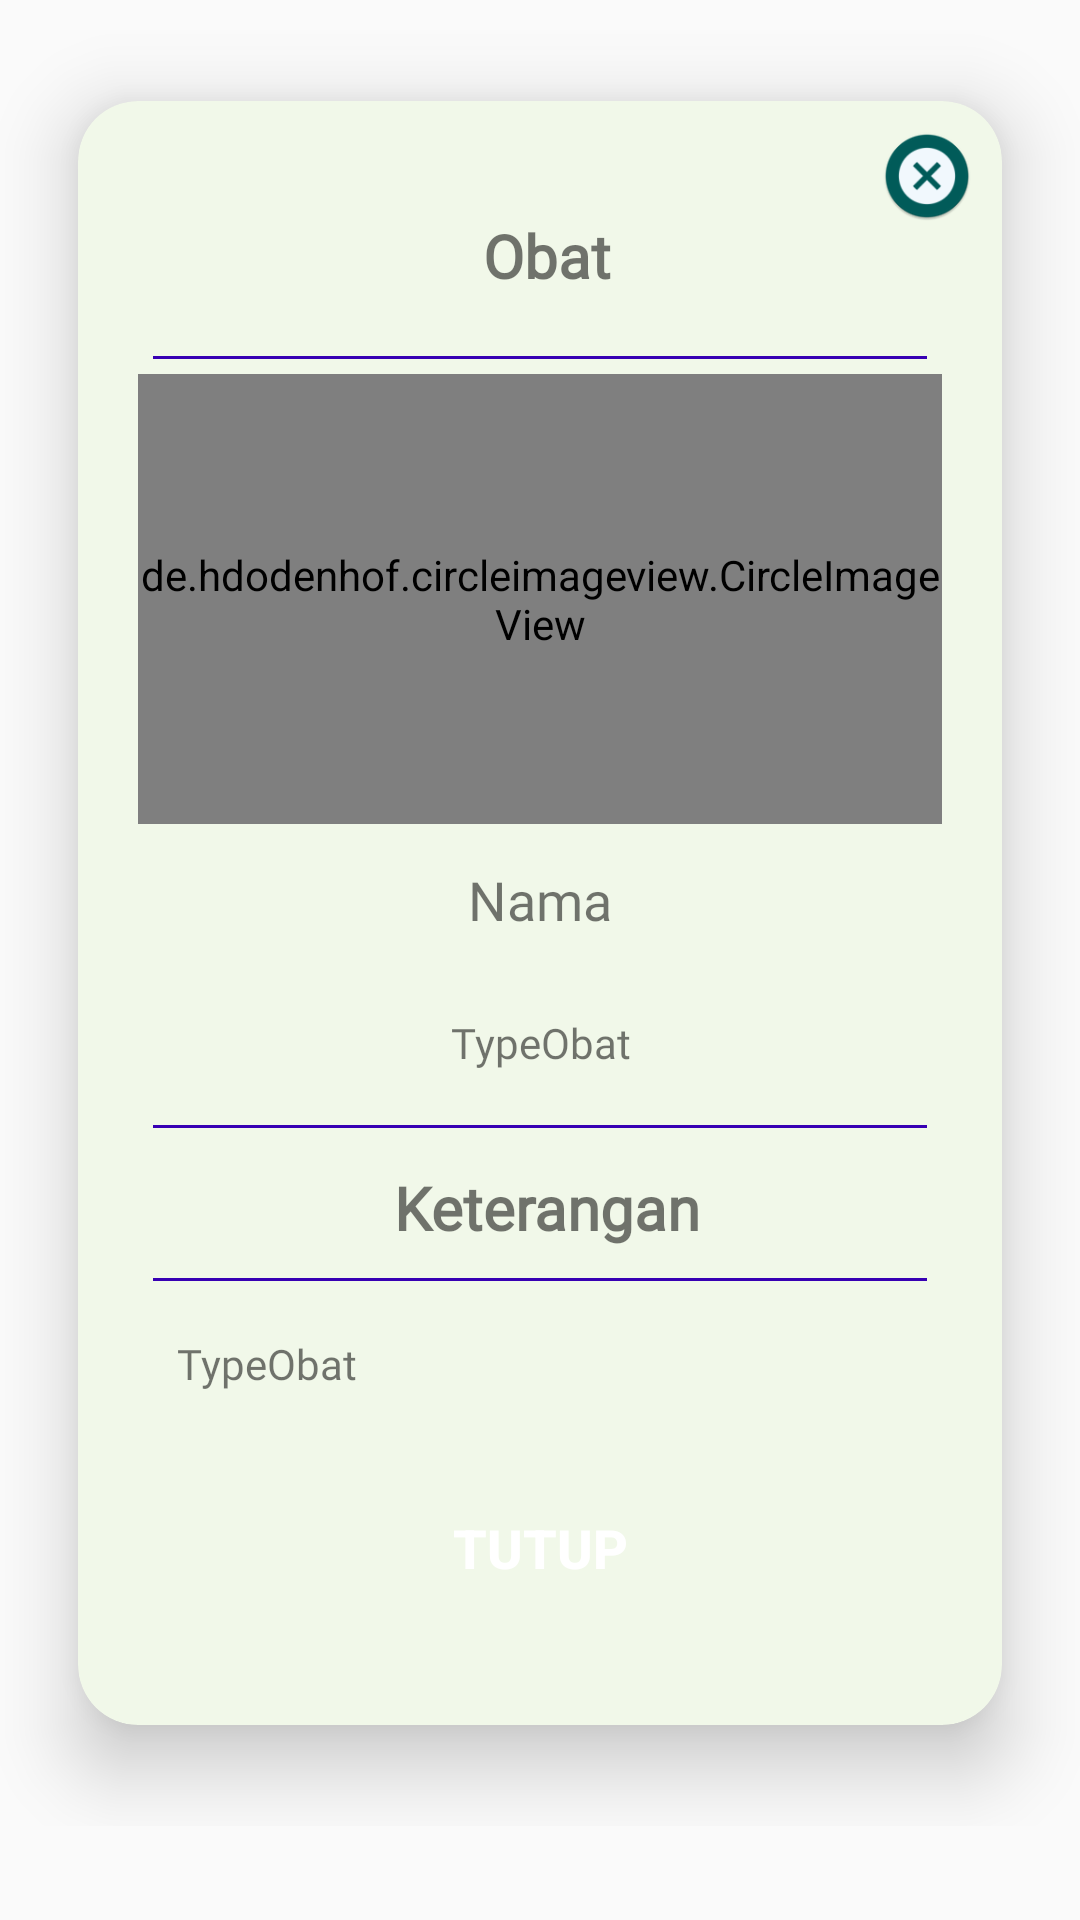

Icons on this 1080 × 1920 Android screen, each with the point to tap as (x=x, y=y):
close: (x=927, y=176)
